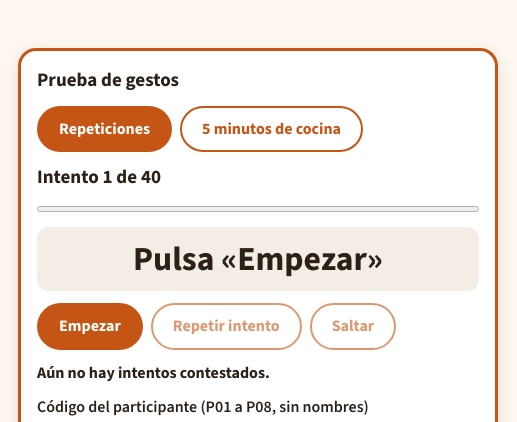
it: 5 minutos de cocina (RNF-05) › el botón de intencional solo sirve con la sesión en marcha
Click the button "5 minutos de cocina".
click(272, 129)  # box top-left (180, 106), bottom-right (363, 152)
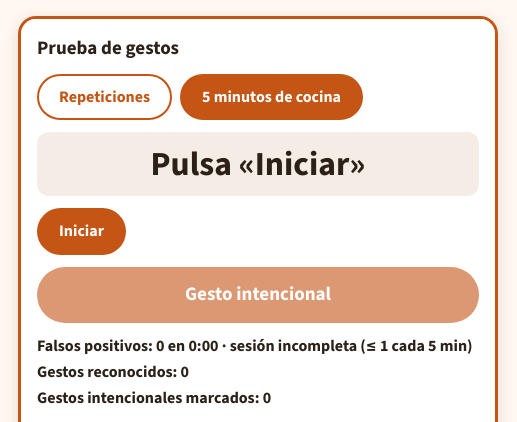
Expected: the button "Gesto intencional" is disabled, top-left (37, 267), bottom-right (479, 323)
Click the button "Iniciar".
click(82, 232)  # box top-left (37, 208), bottom-right (126, 255)
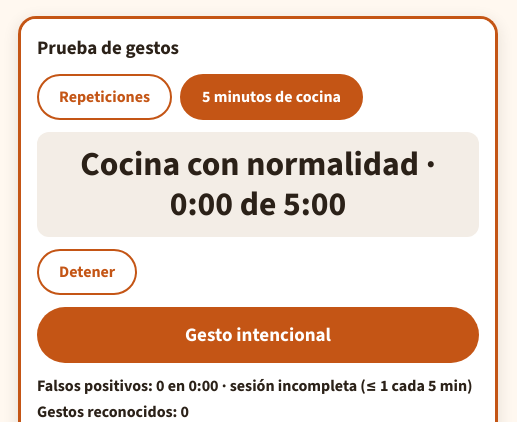
Expected: the button "Gesto intencional" is enabled, top-left (37, 307), bottom-right (479, 363)
